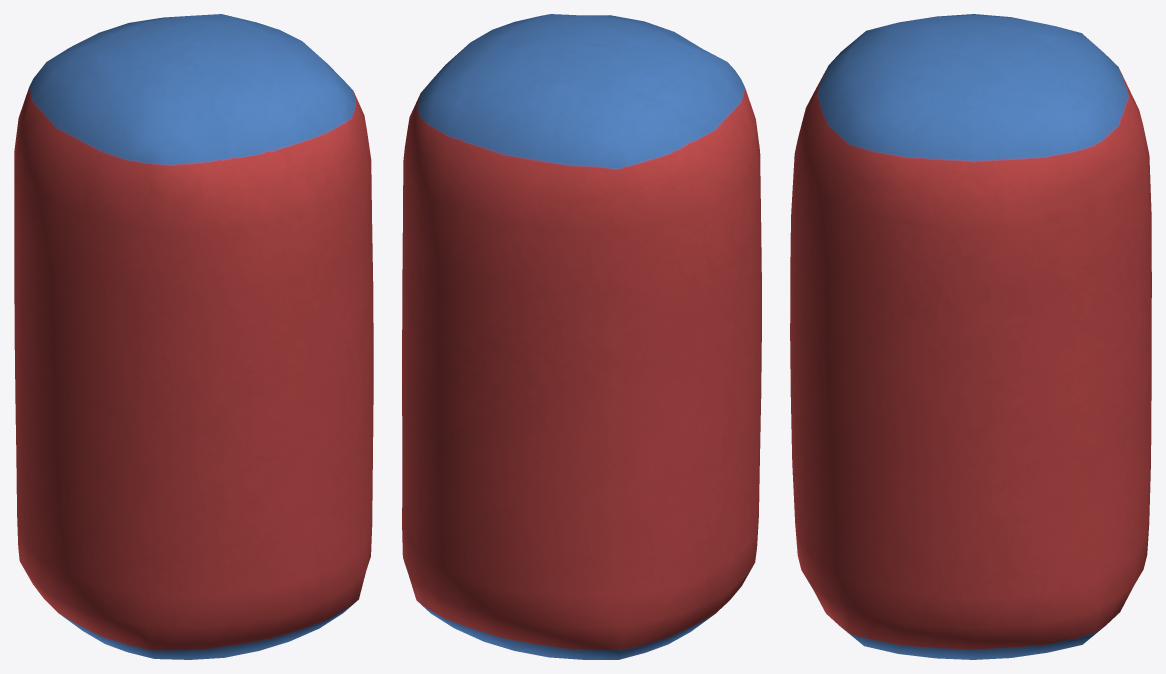
File: Can_S.fbx
3 renders of one model, left to right at view 1: azimuth 30°, elevation 25°; view 2: azimuth 150°, elevation 25°; view 3: azimuth 270°, elevation 25°, orthographic.
Parts seen in each view (by area): view 1: Can_S; view 2: Can_S; view 3: Can_S.
Boxes of the visible parts, x1=… form: Can_S: x1=14, y1=14, x2=373, y2=659; Can_S: x1=402, y1=14, x2=761, y2=659; Can_S: x1=790, y1=14, x2=1151, y2=659.
Size of the model in its own units: 97.27 by 168 by 97.38.
